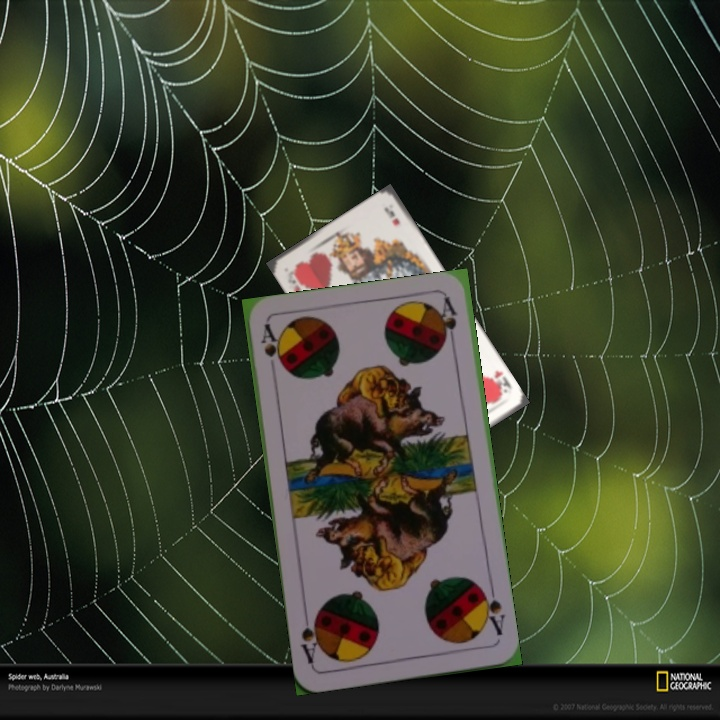HK: (486, 367, 515, 398), (284, 266, 306, 297)
SA: (476, 582, 508, 638), (257, 320, 285, 370)
